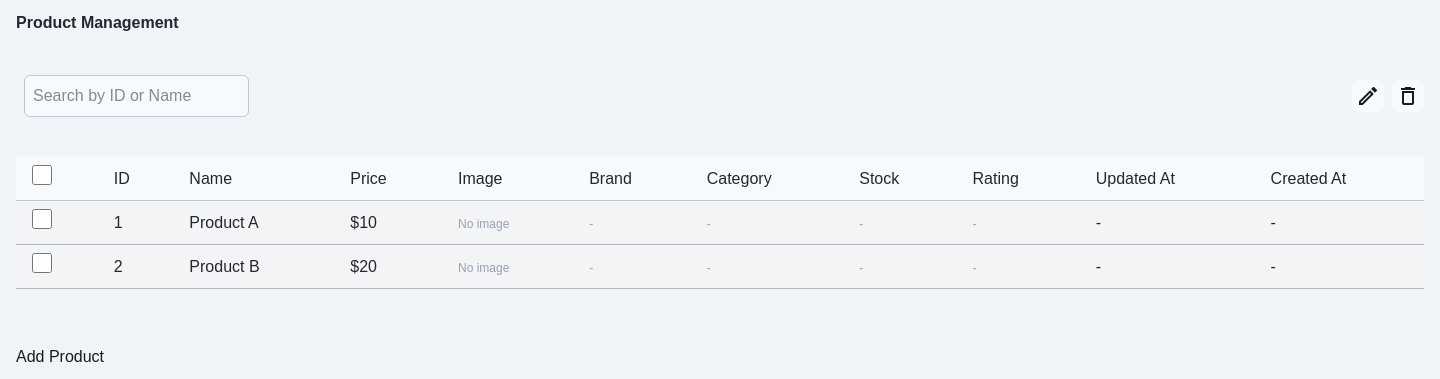
Scenario: ProductTable › shows alert if trying to delete with nothing selected
Click the button titled "delete selected product" at (1408, 96), box x1=1392 y1=80 x2=1424 y2=112
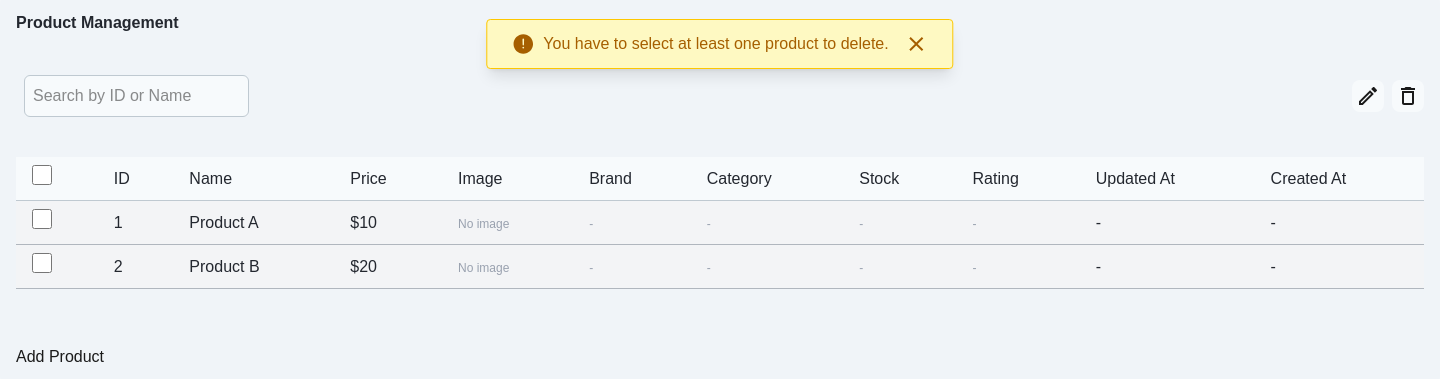
Check: the text "You have to select at least one product to delete." is shown, box x1=543 y1=32 x2=889 y2=56
